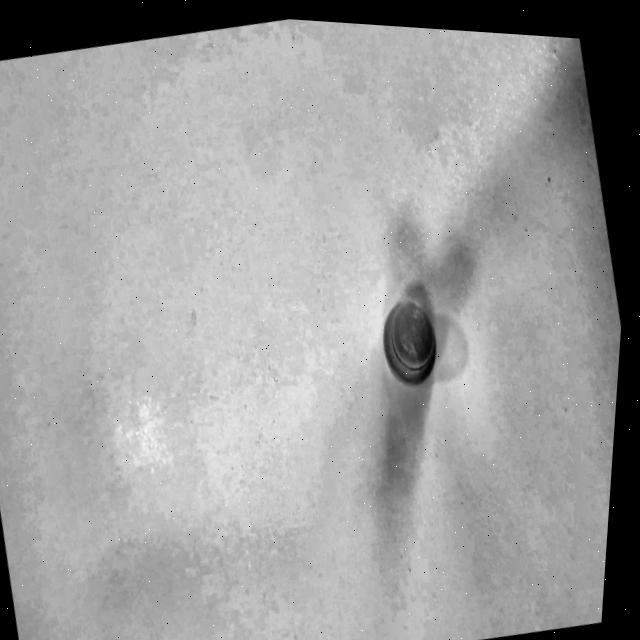white-pawn: (353, 246, 472, 407)
